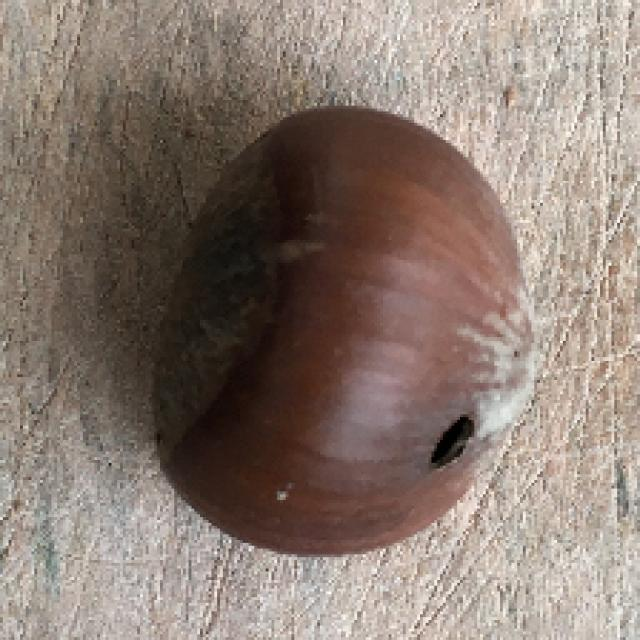damagedHazelnut: (154, 87, 551, 566)
